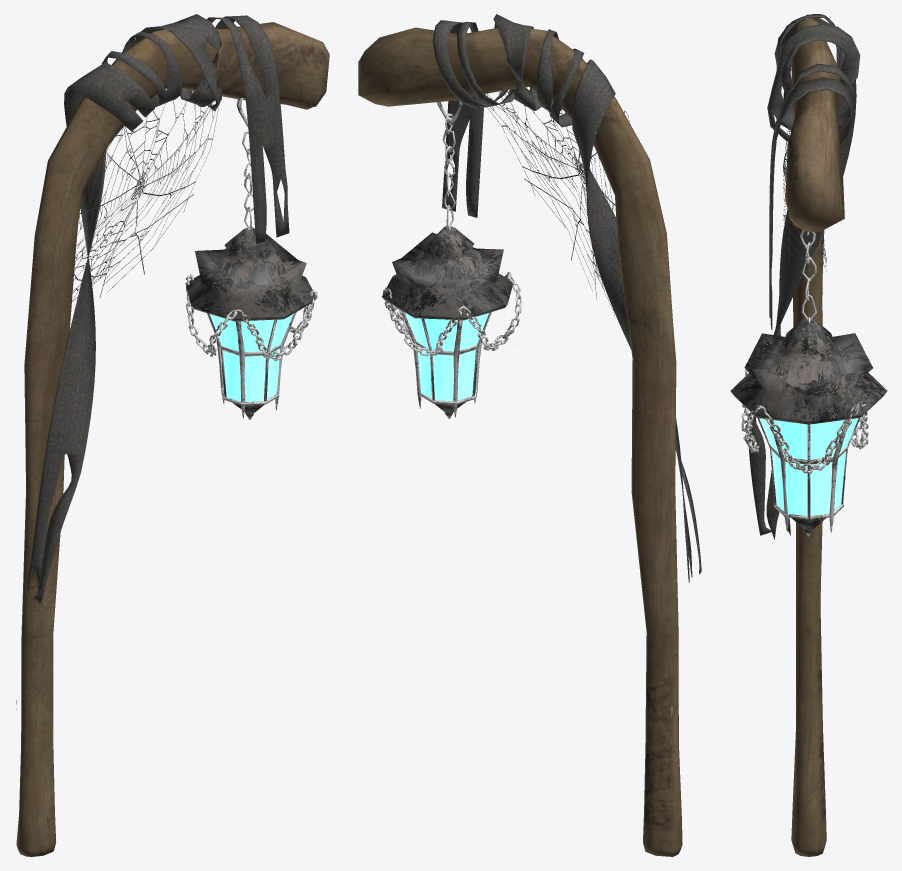
The model's file is bloodborn_lantern.glb.
3 renders of one model, left to right at view 1: azimuth 30°, elevation 25°; view 2: azimuth 150°, elevation 25°; view 3: azimuth 270°, elevation 25°, orthographic. The views are drawn at different scales.
Visible parts, largest first — view 1: lantern_3, spider web_2; view 2: lantern_3, spider web_2; view 3: lantern_3, spider web_2.
Part boxes in pixels (x1=…): lantern_3: x1=16, y1=14, x2=329, y2=856; spider web_2: x1=72, y1=90, x2=219, y2=301; lantern_3: x1=358, y1=14, x2=701, y2=856; spider web_2: x1=487, y1=87, x2=629, y2=318; lantern_3: x1=730, y1=14, x2=887, y2=856; spider web_2: x1=783, y1=89, x2=826, y2=275.
Size of the model in its own units: 3.63 by 8.65 by 1.37.
Materials: 2 (2 with a texture image).
